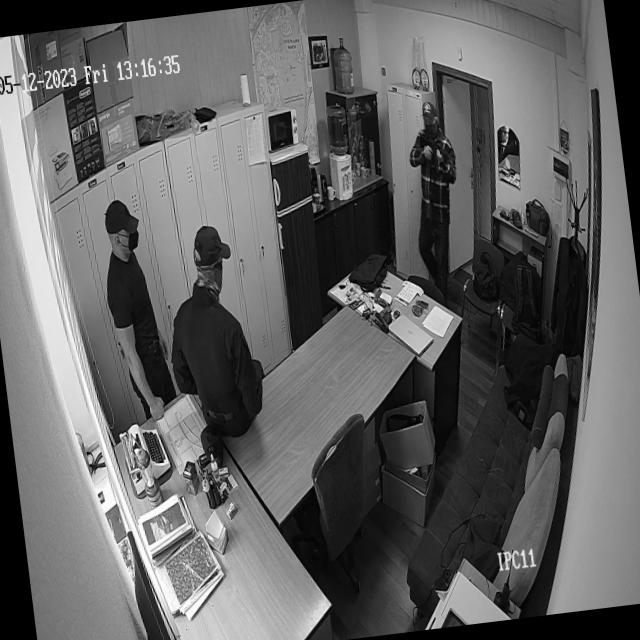gun: (416, 126, 454, 170)
person: (154, 217, 272, 435), (94, 192, 176, 420)
person with a gun: (400, 97, 470, 275)
